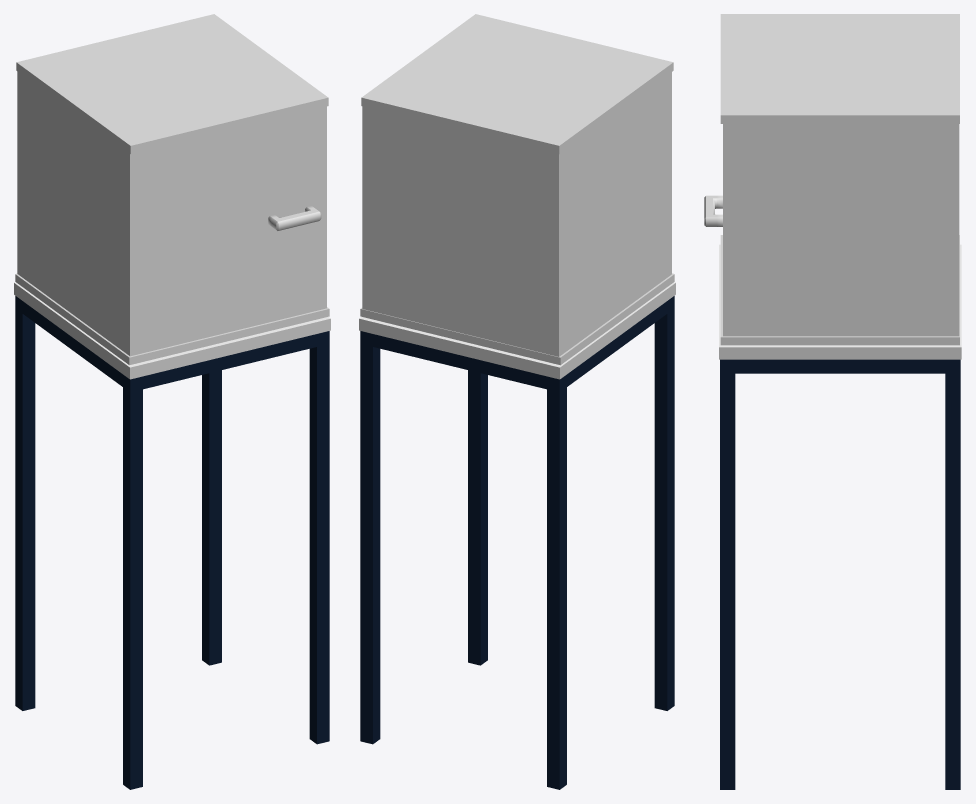
The model's file is Pass-Through.fbx.
3 renders of one model, left to right at view 1: azimuth 30°, elevation 25°; view 2: azimuth 150°, elevation 25°; view 3: azimuth 270°, elevation 25°, orthographic. The views are drawn at different scales.
Visible parts, largest first — view 1: Walls, Door, Legs, Floor, Handle; view 2: Walls, Legs, Floor, Door; view 3: Walls, Legs, Floor, Door, Handle.
Boxes of the visible parts, box(x1,y1,x2,y2) form: Walls: box(15, 14, 329, 365); Door: box(125, 106, 326, 356); Legs: box(15, 296, 329, 789); Floor: box(14, 282, 330, 379); Handle: box(268, 206, 321, 230); Walls: box(360, 14, 674, 365); Legs: box(360, 296, 674, 789); Floor: box(359, 282, 675, 379); Door: box(667, 72, 671, 277); Walls: box(720, 14, 959, 345); Legs: box(720, 359, 960, 789); Floor: box(719, 244, 961, 359); Door: box(723, 124, 732, 336); Handle: box(704, 195, 722, 226).
Size of what is drawn, in the model's own units: 49.1 by 150 by 52.06.
